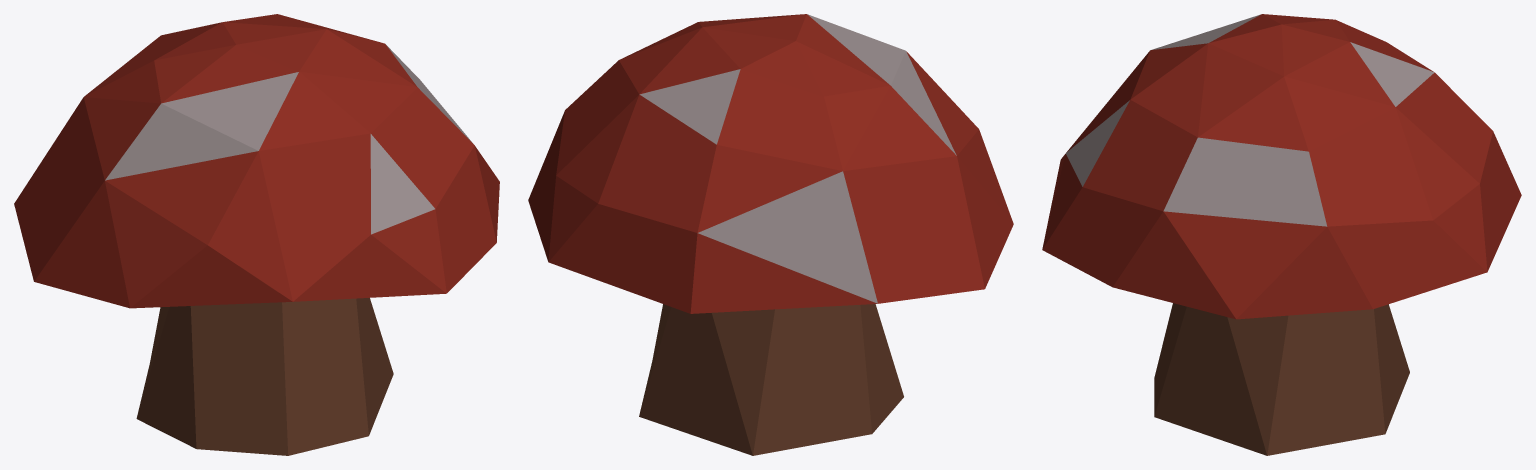
Rendered from pilz.fbx.
3 views of the same model, side by side, from view 1: azimuth 30°, elevation 25°; view 2: azimuth 150°, elevation 25°; view 3: azimuth 270°, elevation 25° (orthographic).
Visible parts, largest first — view 1: Pilz; view 2: Pilz; view 3: Pilz.
Part boxes in pixels (x1,y1,x2,y2): Pilz: (14,14,499,455); Pilz: (528,14,1013,455); Pilz: (1042,14,1521,455).
Bounding box in the file's own units: 143 × 114 × 137.
